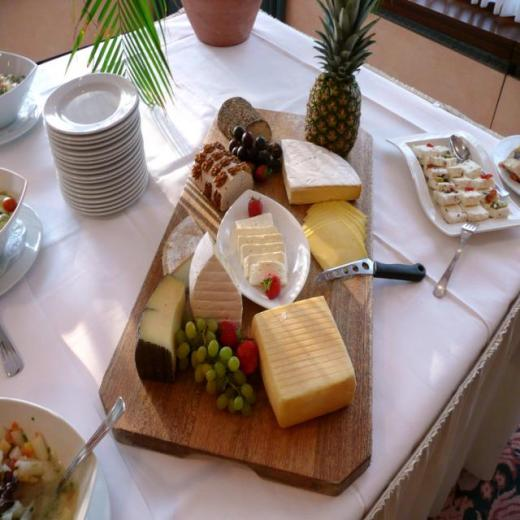Mango: (304, 0, 381, 158)
